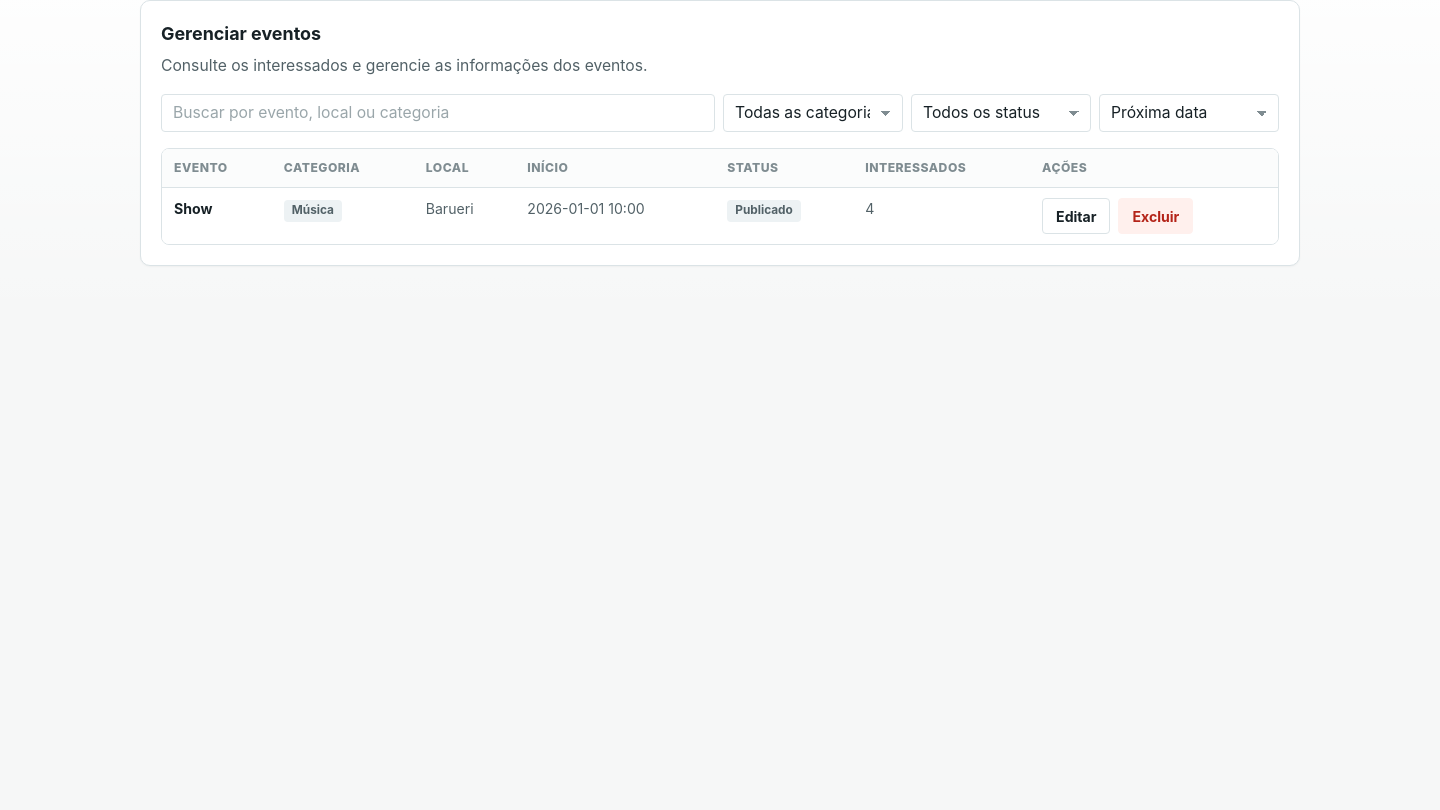
Scenario: shows interests, hides admin controls, and deletes only after confirmation
Expected: the text "4" is shown, [853, 188, 1030, 244]
Click the button "Excluir" at (1156, 216), box [1118, 198, 1193, 234]
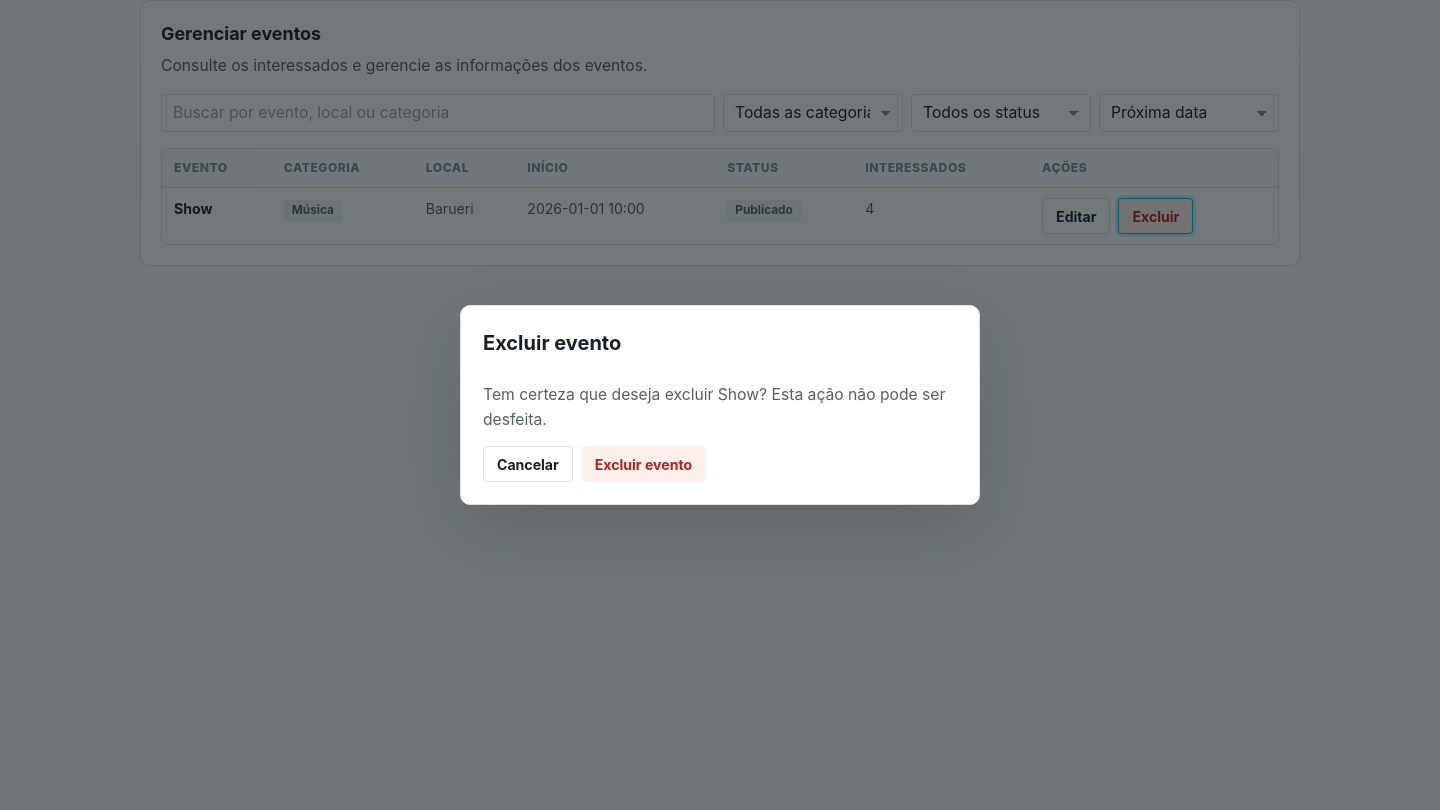
Click the button "Excluir evento" at (643, 464), box [581, 446, 706, 482]
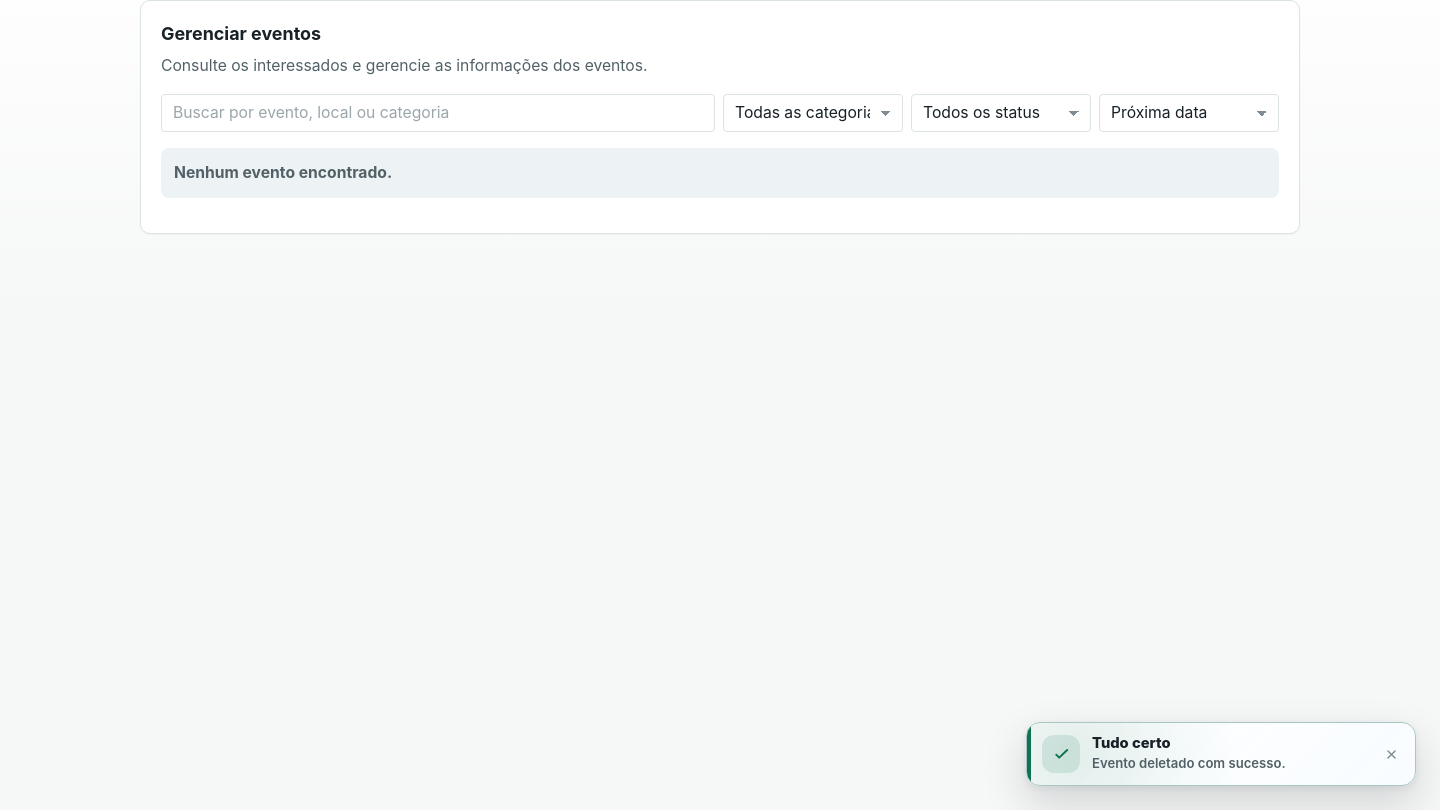
Result: the button "Editar" is gone
